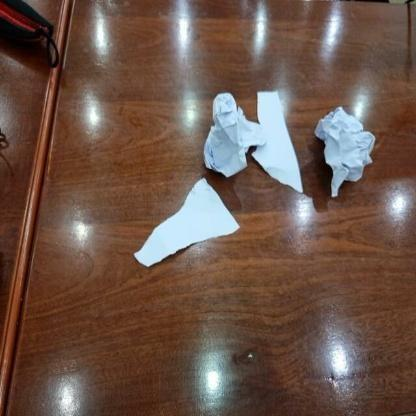trash: (134, 180, 239, 266), (312, 106, 376, 210), (251, 92, 304, 198), (200, 89, 266, 174)
